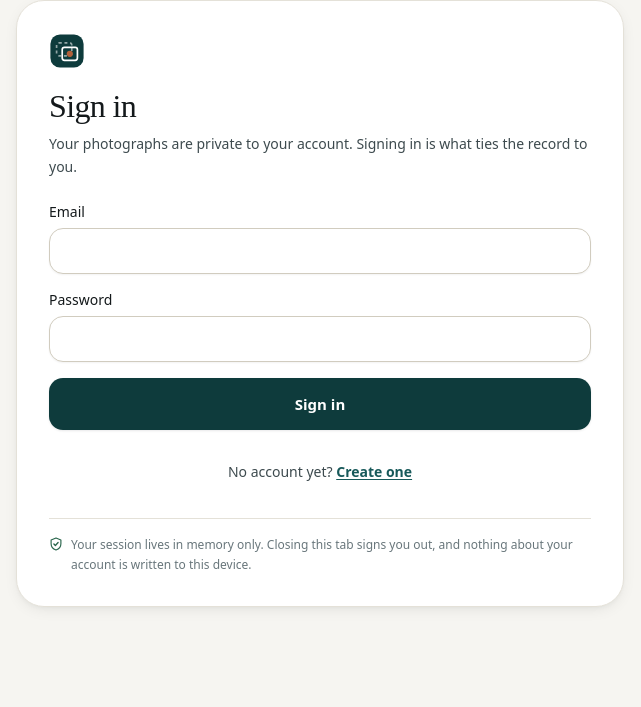
Scenario: SignIn — registering › reports a duplicate registration plainly
Click the button with test id "to-sign-up" at (374, 472), box [336,450,412,494]
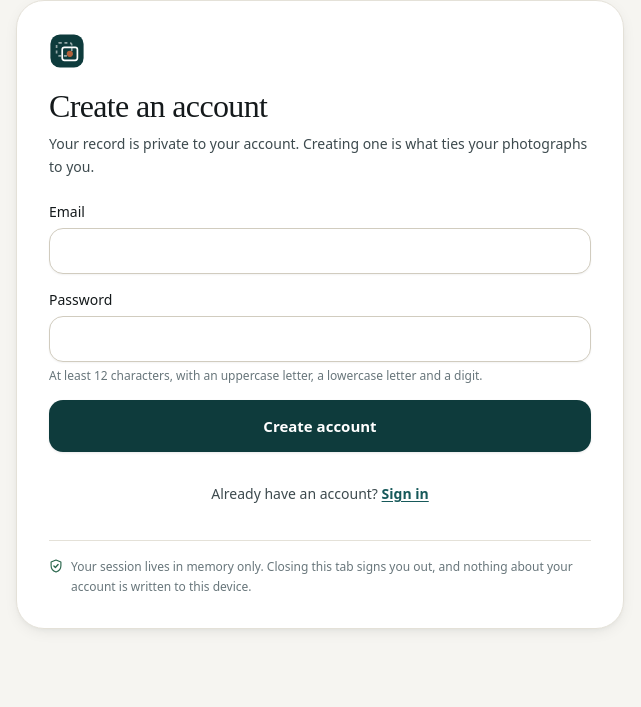
Type "taken@example.com" into the field with id "auth-email" at (320, 251), box [49,228,591,274]
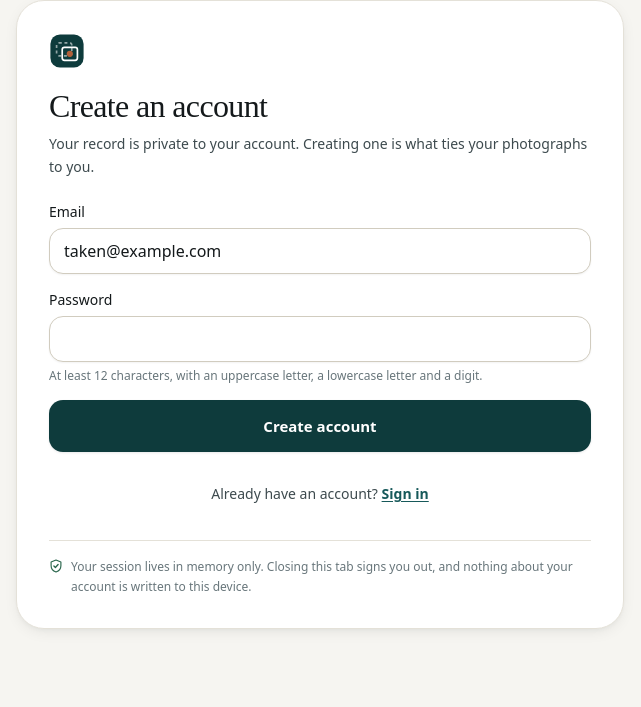
Type "correct-horse-battery-1A" into the password field with id "auth-password" at (320, 339), box [49,316,591,362]
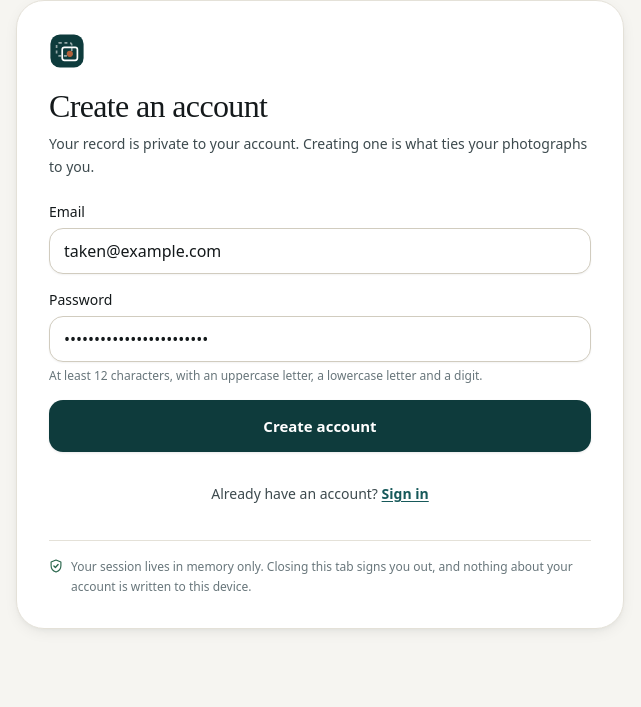
Click the button with test id "auth-submit" at (320, 426), box [49,400,591,452]
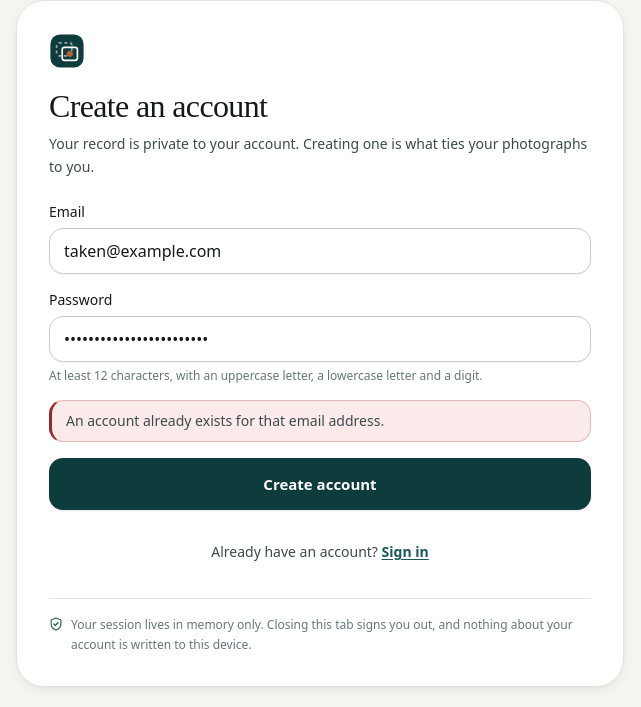
Now the message "An account already exists for that email address." is shown, box [49,400,591,442]
Now the message shows "already exists", box [66,411,384,430]
